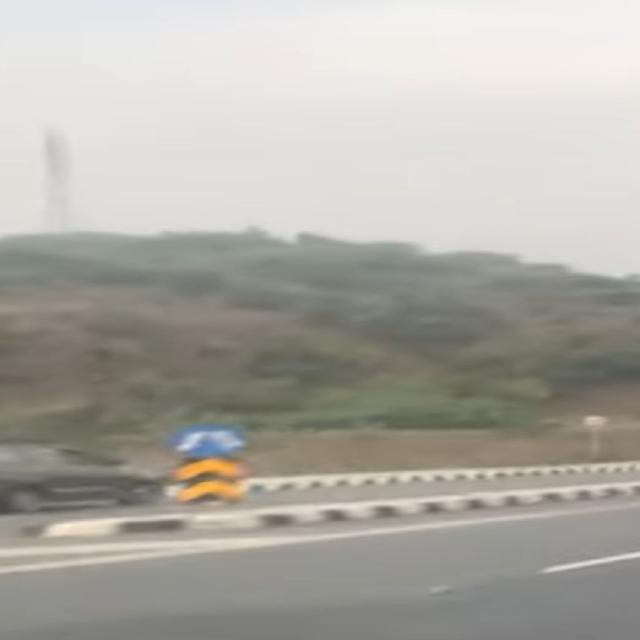Twoway_hazardmarker: (176, 456, 242, 506)
vehicles_may_pass_either: (170, 424, 243, 458)
